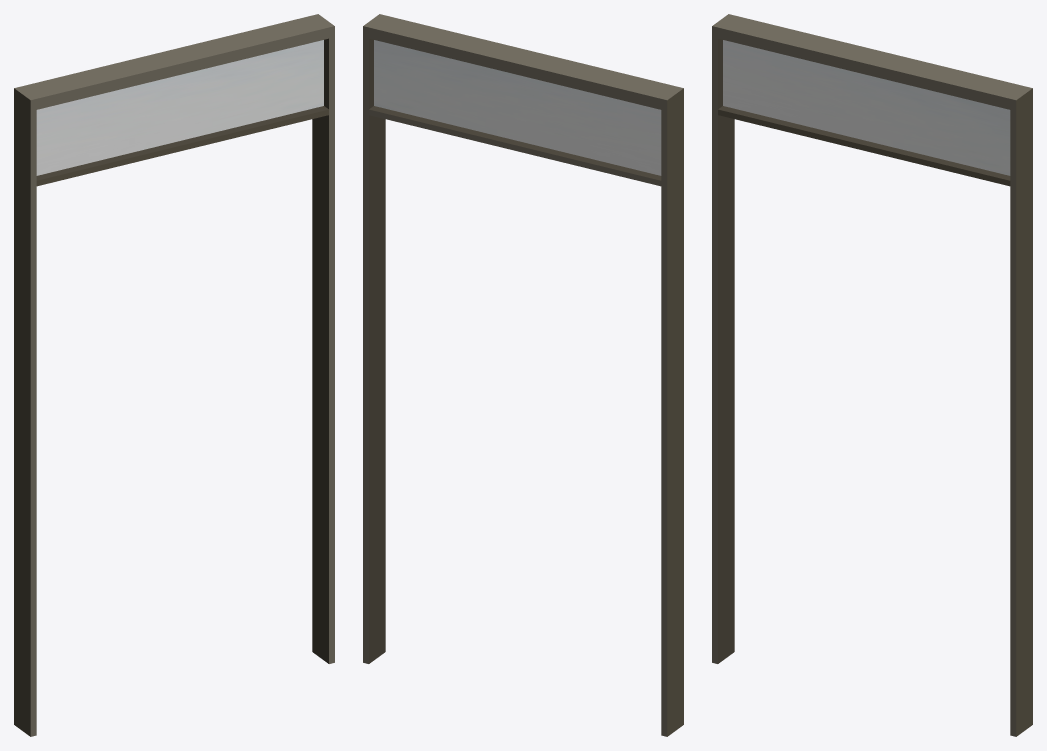
Rendered from Store_Door_Wall.FBX.
3 views of the same model, side by side, from view 1: azimuth 30°, elevation 25°; view 2: azimuth 150°, elevation 25°; view 3: azimuth 330°, elevation 25° (orthographic).
Visible parts, largest first — view 1: Plane041; view 2: Plane041; view 3: Plane041.
Part boxes in pixels (x1,y1,x2,y2): Plane041: [14, 14, 334, 736]; Plane041: [363, 14, 683, 736]; Plane041: [712, 14, 1032, 736].
Size of the model in its own units: 33.46 by 66.93 by 3.15.
